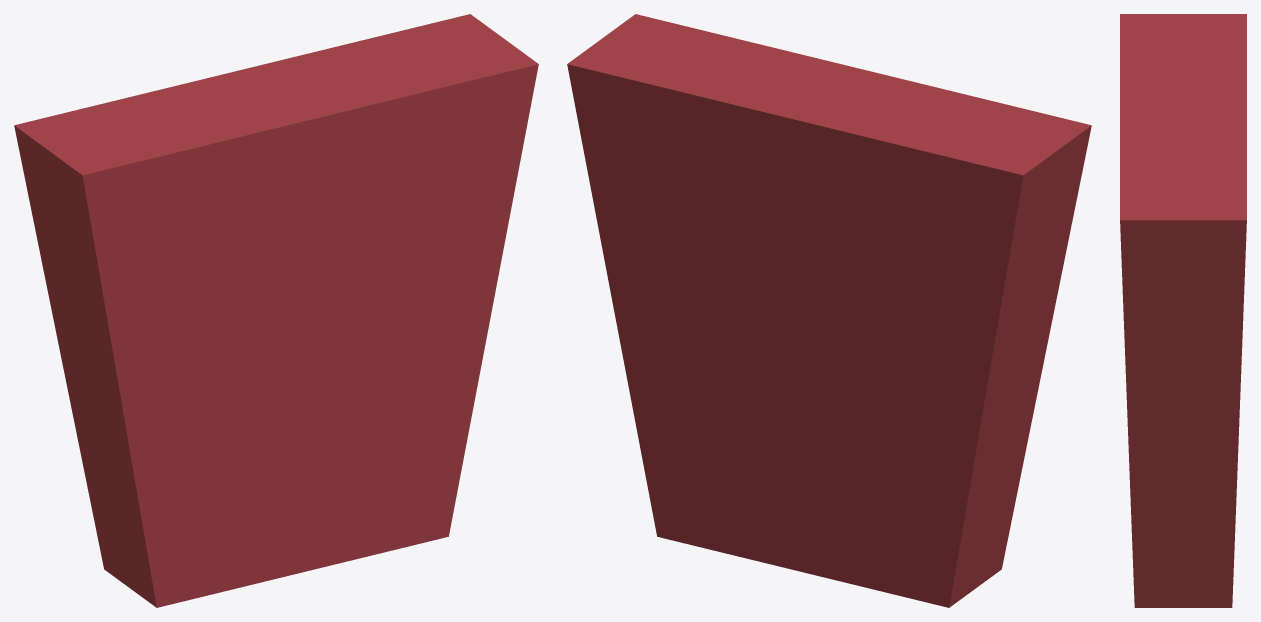
The model's file is wk_muscle_back_v01.glb.
3 renders of one model, left to right at view 1: azimuth 30°, elevation 25°; view 2: azimuth 150°, elevation 25°; view 3: azimuth 270°, elevation 25°, orthographic. The views are drawn at different scales.
Parts seen in each view (by area): view 1: GEO_MuscleBack; view 2: GEO_MuscleBack; view 3: GEO_MuscleBack.
Part boxes in pixels (x1=…): GEO_MuscleBack: x1=14, y1=14, x2=538, y2=607; GEO_MuscleBack: x1=567, y1=14, x2=1091, y2=607; GEO_MuscleBack: x1=1120, y1=14, x2=1246, y2=607.
Bounding box in the file's own units: 0.5 × 0.48 × 0.13.
